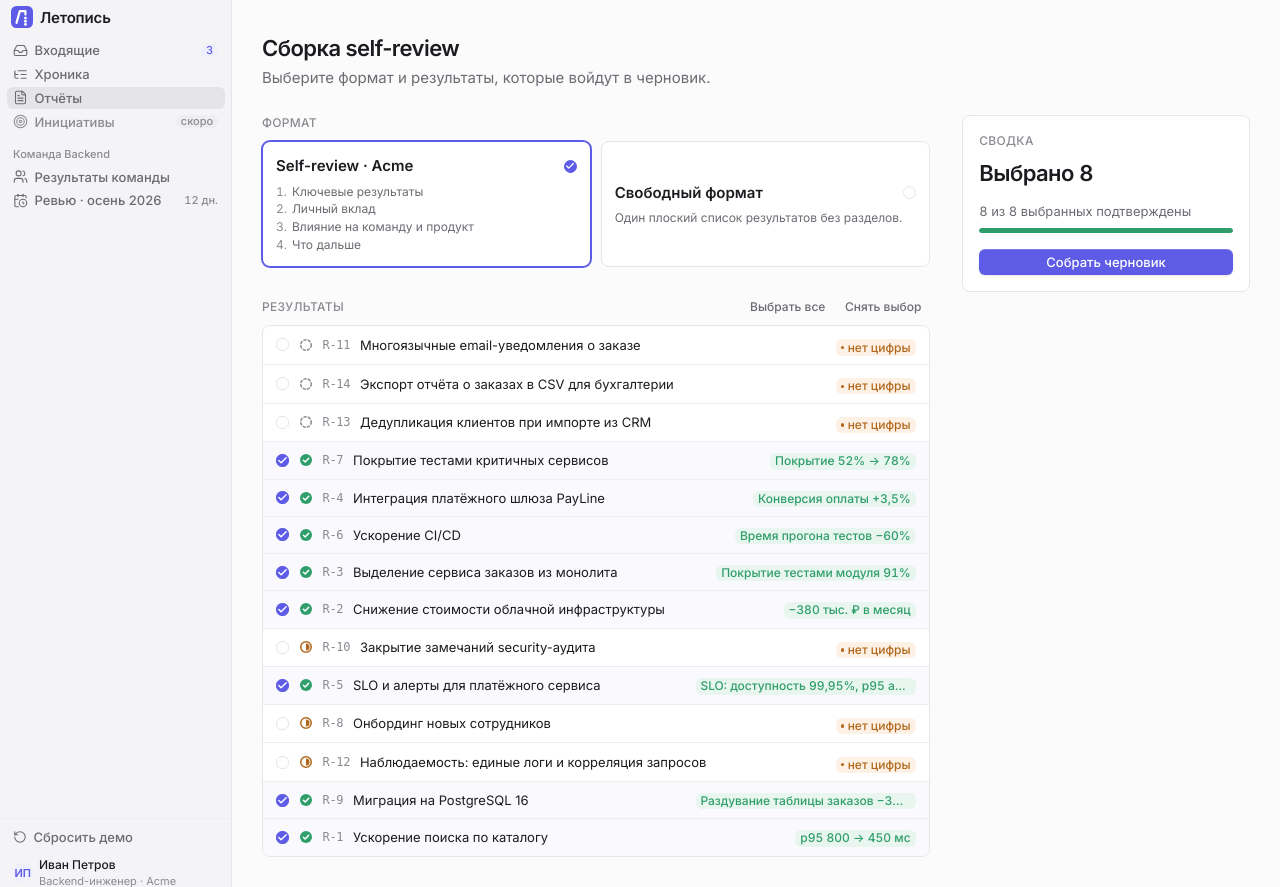
Test: отчёты › сборка → черновик, «Показать сразу» открывает текст со сносками
Click the button "Собрать черновик" at point(1106, 262), box [979, 249, 1233, 275]
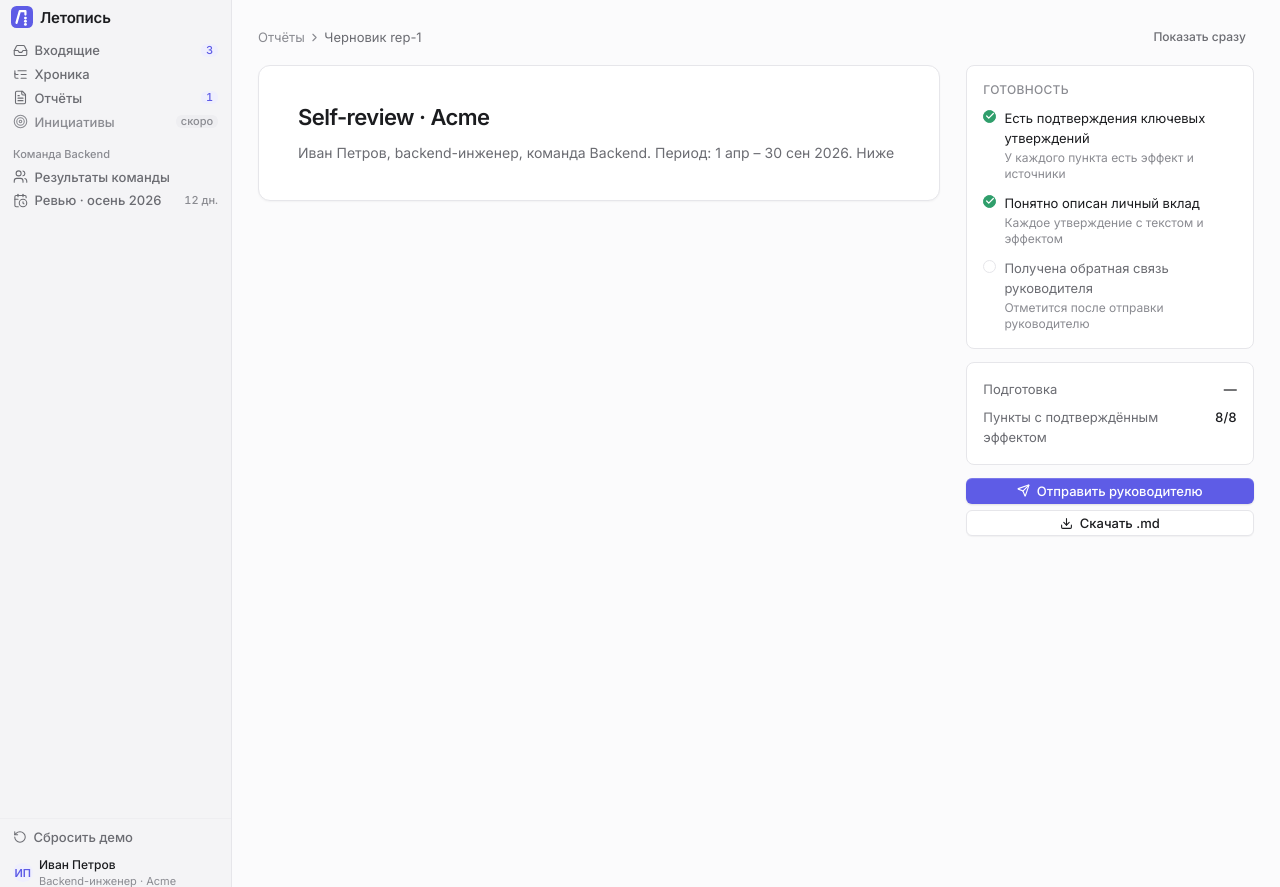
Click the button "Показать сразу" at point(1200, 37), box [1145, 26, 1254, 49]
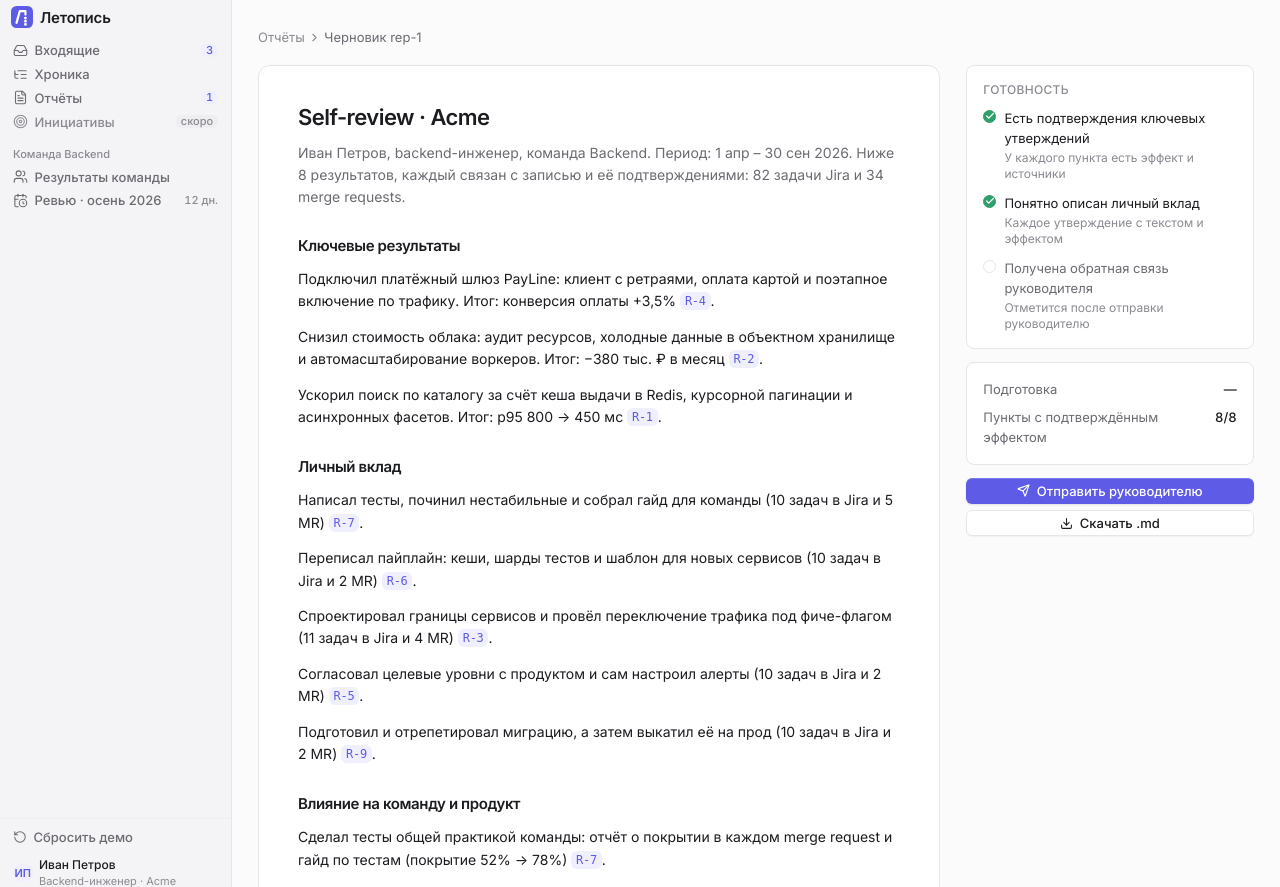
Now the text "Получена обратная связь руководителя" is shown, box [1004, 260, 1169, 296]
Now the heading "Ключевые результаты" is shown, box [298, 236, 460, 255]
Now the button "R-4" is shown, box [680, 292, 710, 310]
